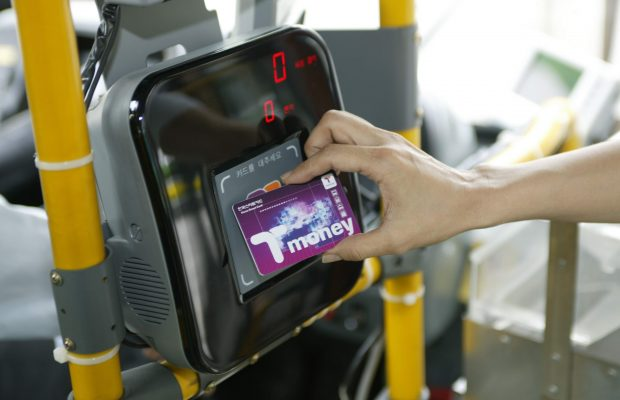tarjeta: (230, 168, 363, 280)
